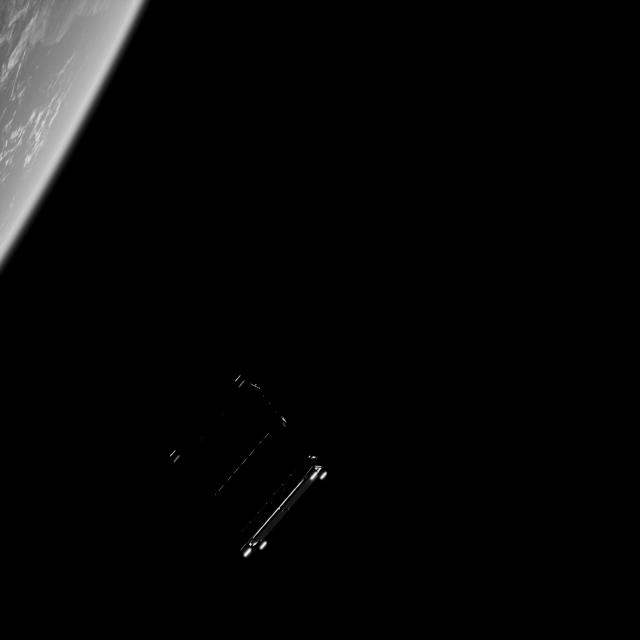medium_debris: (165, 367, 340, 563)
